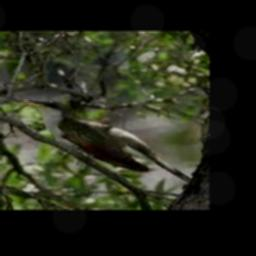Cuckoo: (19, 100, 192, 183)
